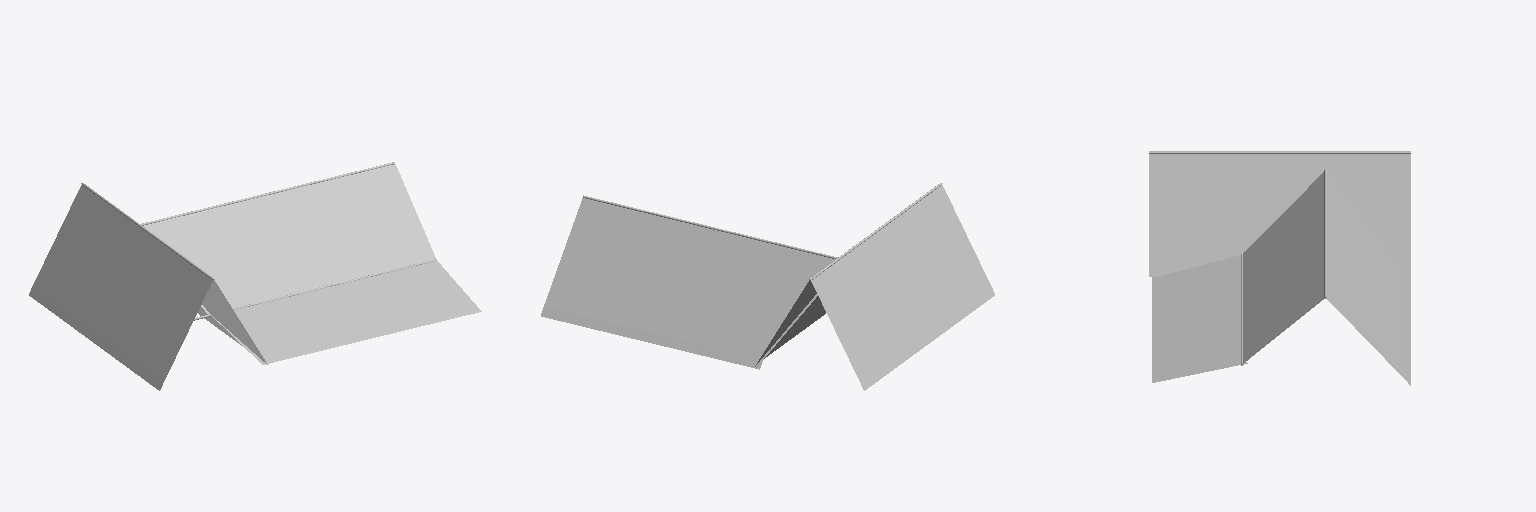
File: roof.obj
The picture shows the model from 3 angles: view 1: azimuth 30°, elevation 25°; view 2: azimuth 150°, elevation 25°; view 3: azimuth 270°, elevation 25°; orthographic projection.
Visible parts, largest first — view 1: Mesh_10; view 2: Mesh_10; view 3: Mesh_10.
Boxes of the visible parts, x1,y1,x2,y2 form: Mesh_10: [29, 162, 481, 390]; Mesh_10: [541, 183, 994, 390]; Mesh_10: [1149, 151, 1410, 385].
Size of the model in its own units: 24.33 by 7.44 by 17.1.